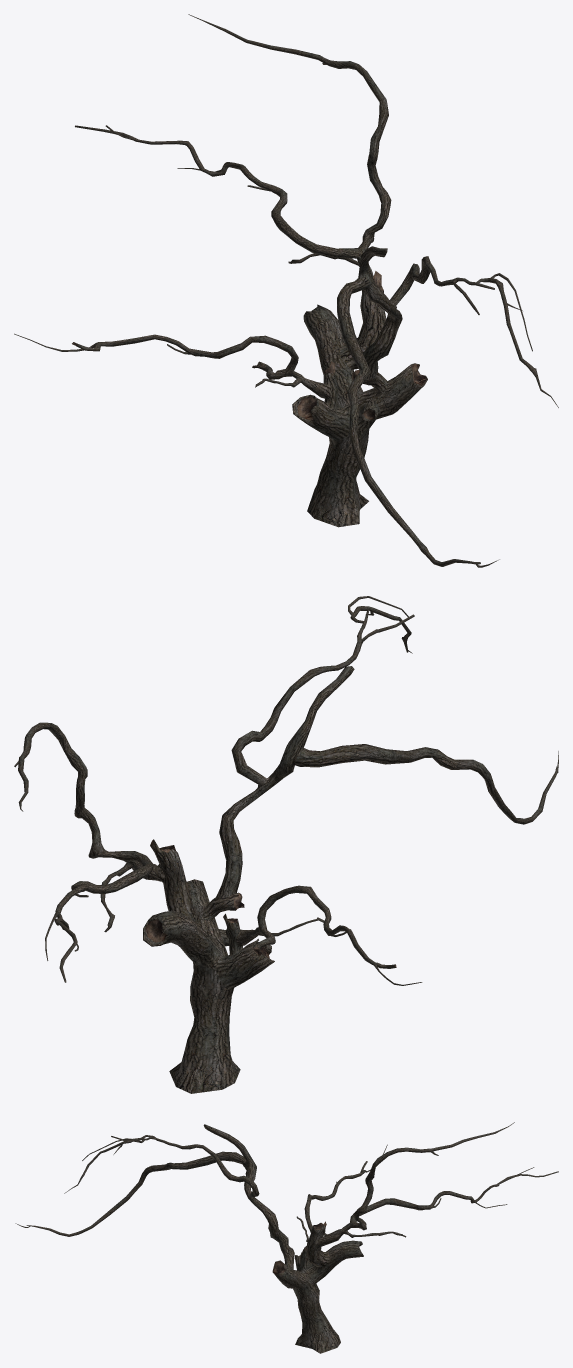
The model's file is trees_branch_1_04.fbx.
3 renders of one model, top to bottom at view 1: azimuth 30°, elevation 25°; view 2: azimuth 150°, elevation 25°; view 3: azimuth 270°, elevation 25°, orthographic. The views are drawn at different scales.
Parts seen in each view (by area): view 1: trees_branch_1_04.ogf 01, trees_branch_1_04.ogf 00; view 2: trees_branch_1_04.ogf 01, trees_branch_1_04.ogf 00; view 3: trees_branch_1_04.ogf 01.
Boxes of the visible parts, <box> form: trees_branch_1_04.ogf 01: <box>14,14,558,567</box>; trees_branch_1_04.ogf 00: <box>72,271,426,421</box>; trees_branch_1_04.ogf 01: <box>14,596,558,1093</box>; trees_branch_1_04.ogf 00: <box>145,839,396,967</box>; trees_branch_1_04.ogf 01: <box>15,1122,558,1353</box>.
Size of the model in its own units: 1523 by 1489 by 3256.
